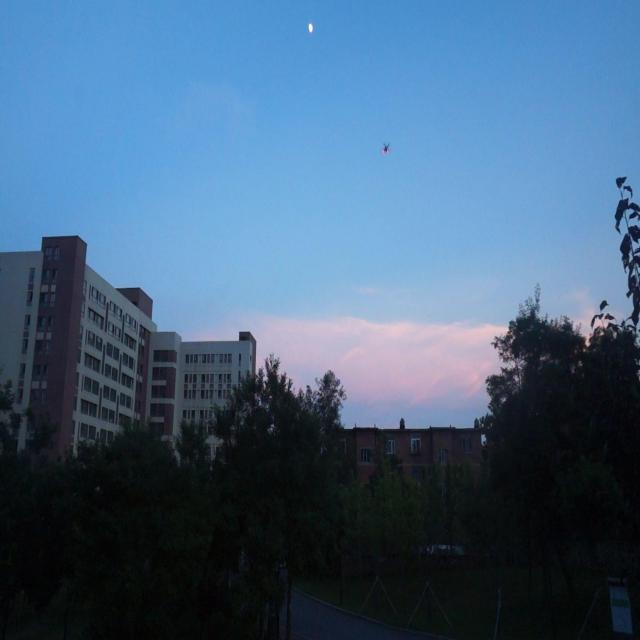UAV: (382, 142, 390, 154)
